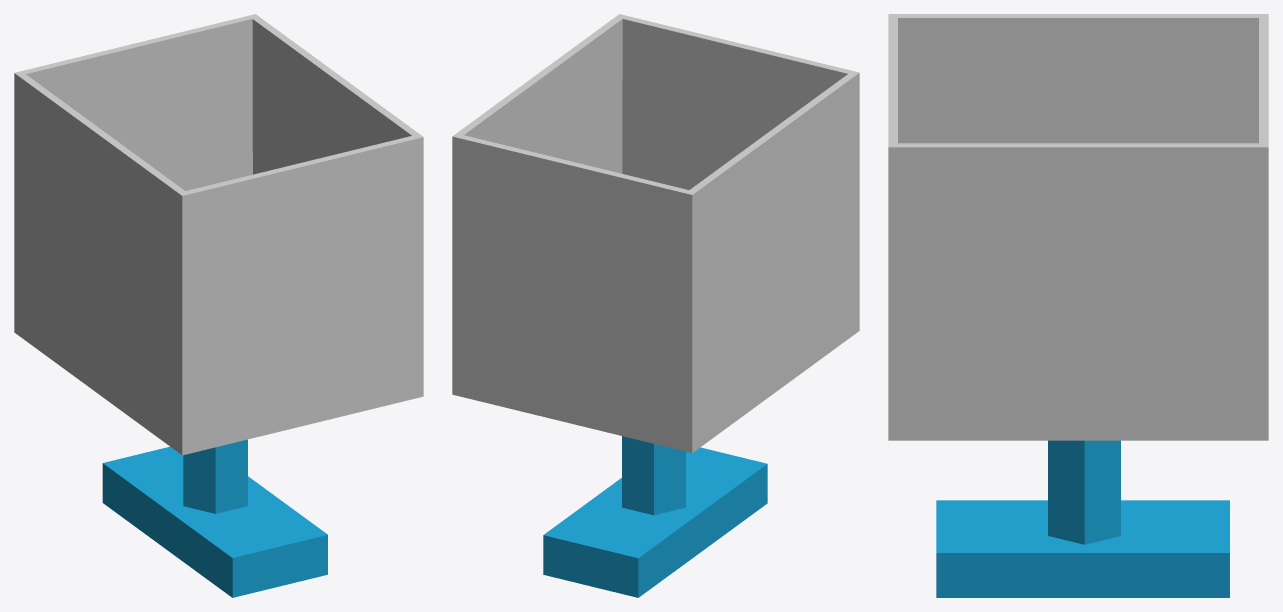
Rendered from lamp_yellow.fbx.
The picture shows the model from 3 angles, left to right: view 1: azimuth 30°, elevation 25°; view 2: azimuth 150°, elevation 25°; view 3: azimuth 270°, elevation 25°; orthographic projection. The views are drawn at different scales.
Visible parts, largest first — view 1: Cube.113, Cube.112, Cylinder.002; view 2: Cube.113, Cube.112, Cylinder.002; view 3: Cube.113, Cube.112, Cylinder.002.
Part boxes in pixels (x1,y1,x2,y2): Cube.113: [14, 14, 423, 455]; Cube.112: [102, 446, 327, 597]; Cylinder.002: [183, 439, 247, 513]; Cube.113: [452, 14, 859, 453]; Cube.112: [543, 447, 767, 597]; Cylinder.002: [622, 436, 685, 515]; Cube.113: [888, 14, 1268, 440]; Cube.112: [936, 500, 1229, 597]; Cylinder.002: [1048, 440, 1120, 544].
Size of the model in its own units: 23.23 by 39.99 by 28.03.
